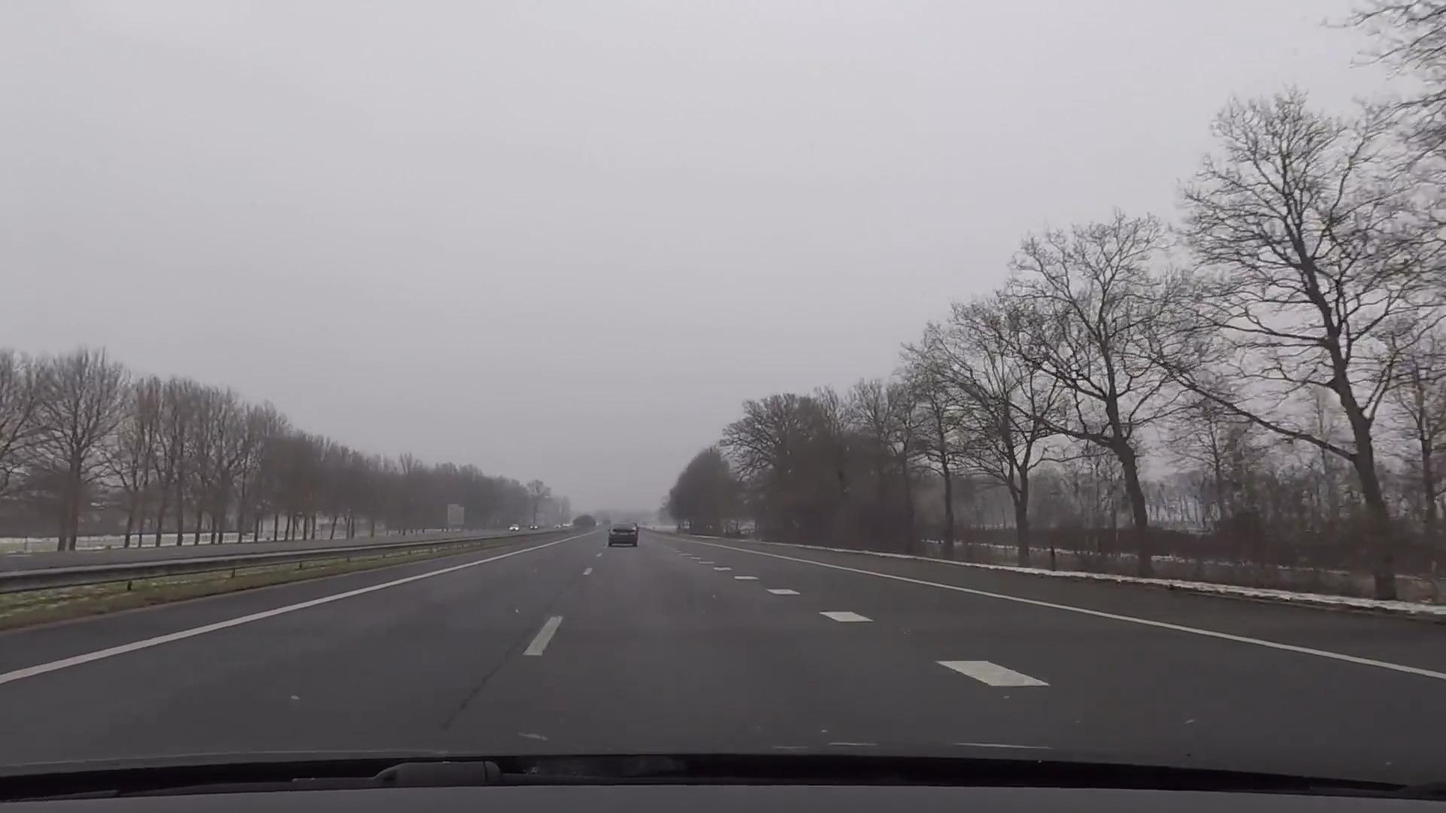dry: (0, 526, 1446, 766)
